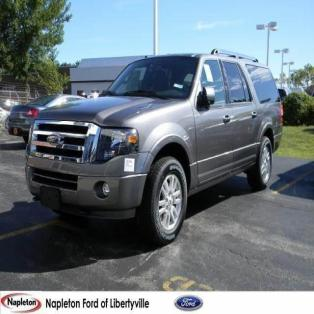Auto: (24, 50, 284, 243)
